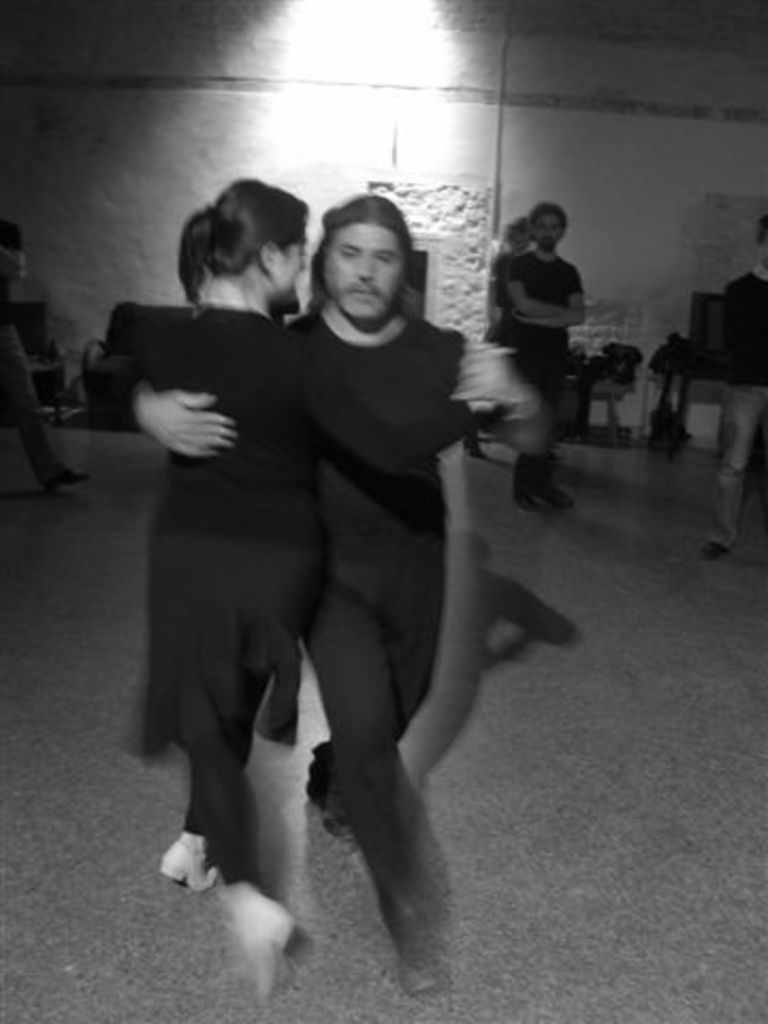Footwear: (154, 836, 228, 892)
